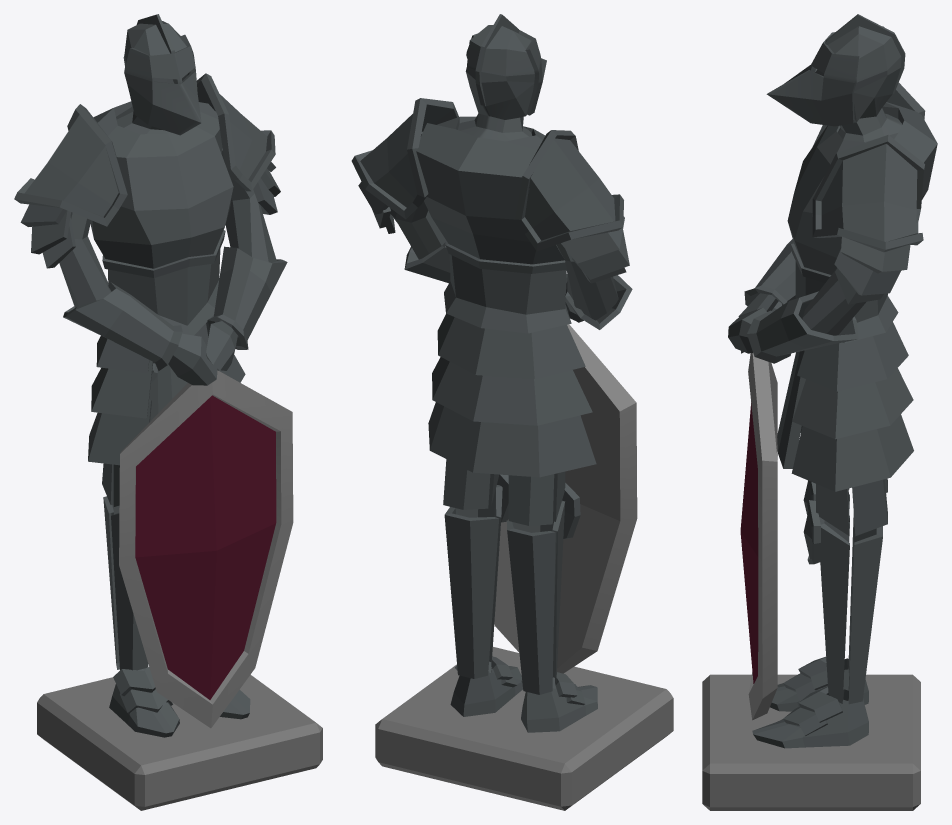
The model's file is NoBox1.fbx.
3 views of the same model, side by side, from view 1: azimuth 30°, elevation 25°; view 2: azimuth 150°, elevation 25°; view 3: azimuth 270°, elevation 25° (orthographic). The views are drawn at different scales.
Parts seen in each view (by area): view 1: Shield; view 2: Shield; view 3: Shield.
Part boxes in pixels (bbox=[...]): Shield: bbox=[14, 14, 322, 810]; Shield: bbox=[351, 14, 673, 810]; Shield: bbox=[702, 14, 937, 810].
Bounding box in the file's own units: 196 × 519 × 147.
